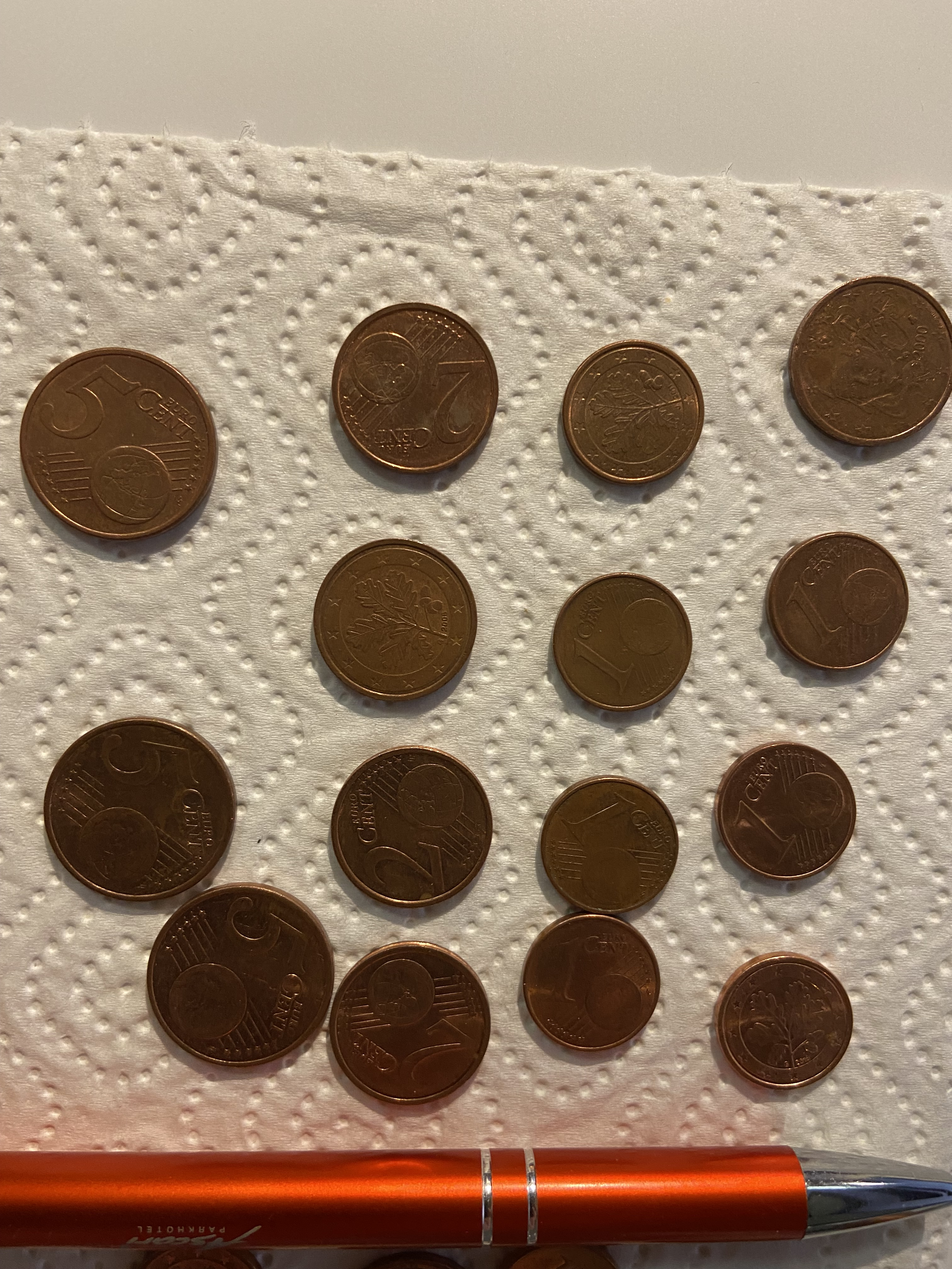1 cent: (711, 738, 860, 883), (548, 569, 697, 714), (762, 528, 911, 673), (560, 339, 709, 484), (521, 910, 664, 1055), (712, 948, 854, 1093), (536, 771, 678, 916)
2 cent: (788, 277, 952, 447), (313, 535, 477, 704), (328, 939, 492, 1107), (327, 746, 491, 914), (333, 303, 497, 471)
5 cent: (19, 341, 224, 544), (45, 712, 237, 902), (149, 881, 340, 1070)
